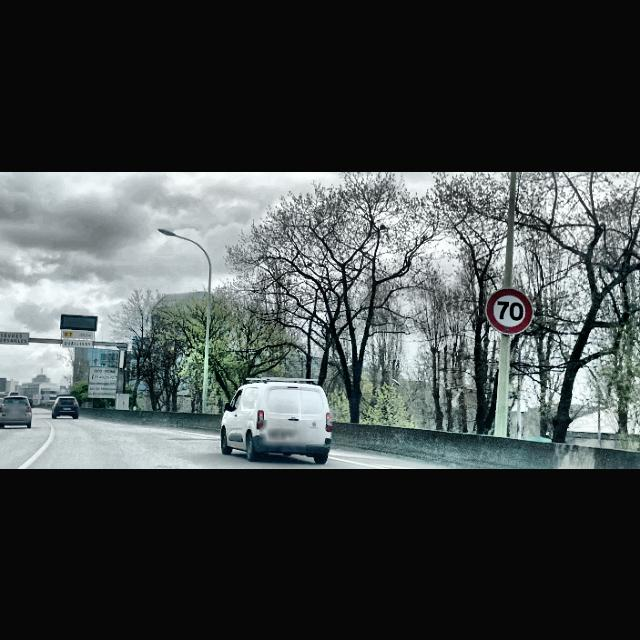speed_70: (486, 288, 534, 332)
